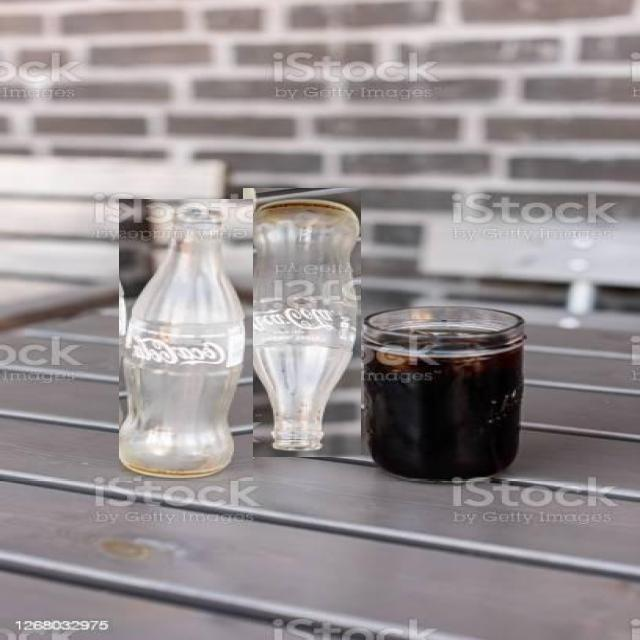coca-cola: (119, 199, 253, 481), (243, 188, 361, 457)
